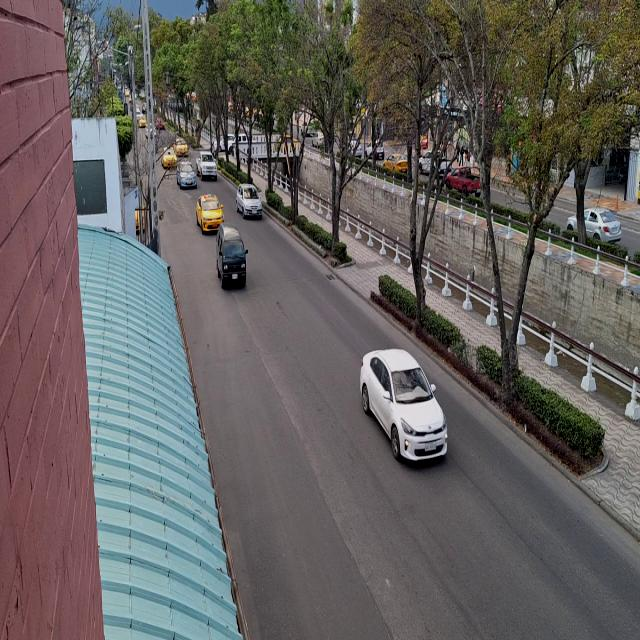CMT: (448, 166, 482, 196)
SED: (362, 351, 449, 462), (233, 178, 265, 221), (195, 190, 226, 230), (176, 158, 199, 192)
